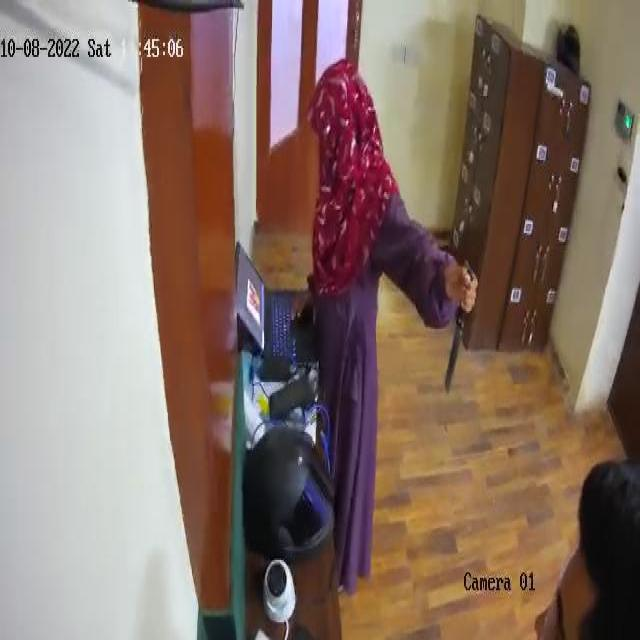Knife: (440, 254, 472, 393)
